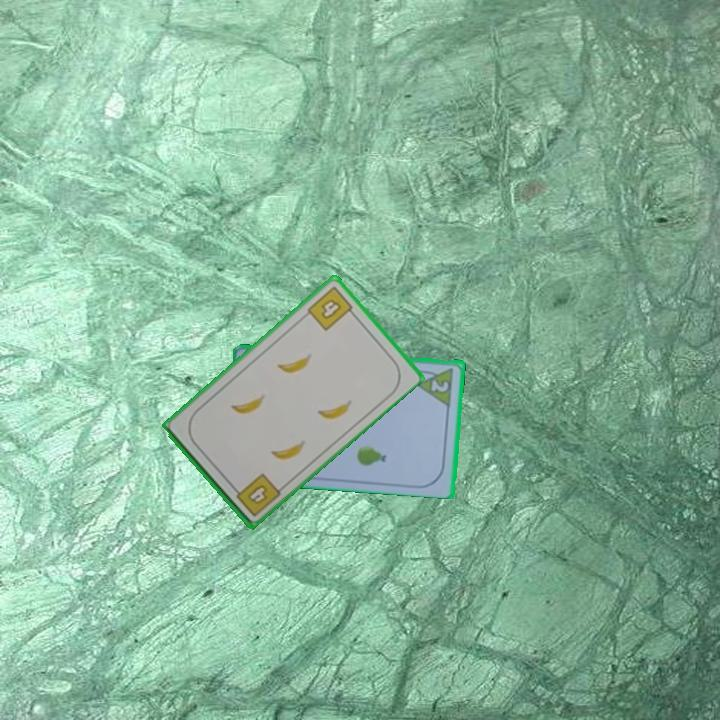2p: (414, 364, 456, 408)
4b: (303, 282, 359, 333), (228, 469, 284, 519)
